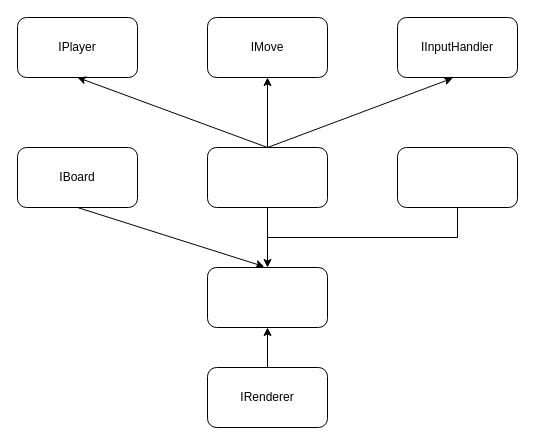
This 535x445 diagram has some shape labels left out. The shapes that lost their labels are listed below. From the top down, each one's centre as x and y in pixels, then its label:
At pixel 267 177: "IGame".
At pixel 457 177: "IGameController".
At pixel 267 297: "IRuleChacker".
